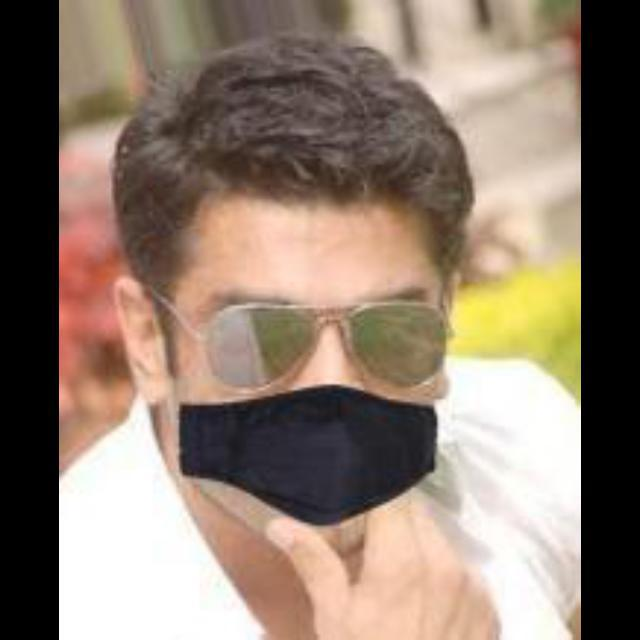suspicion: (58, 14, 498, 514)
